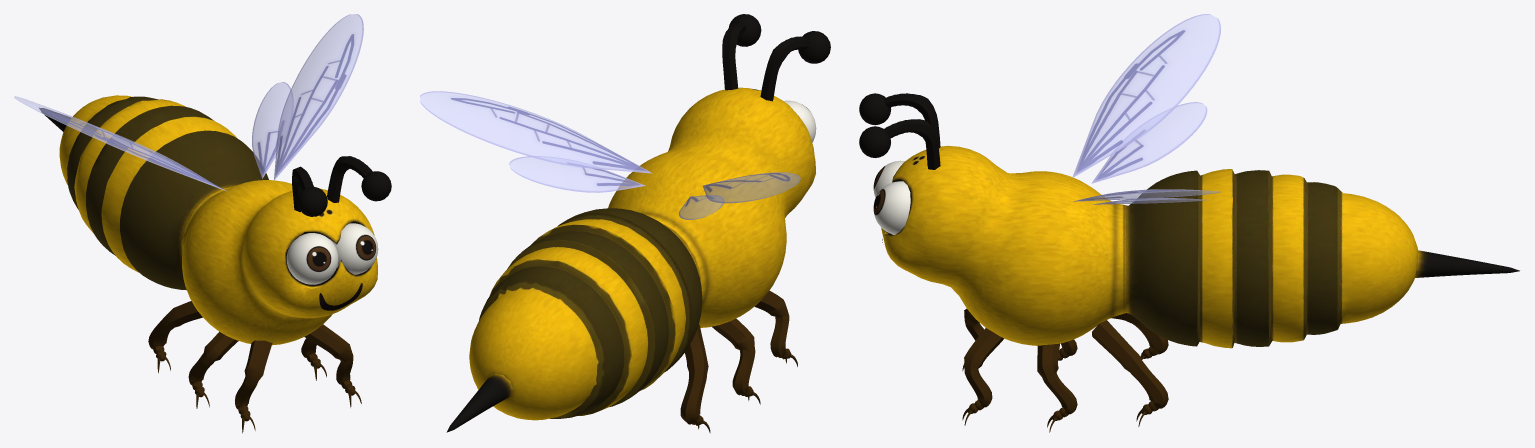
File: bee.glb
3 views of the same model, side by side, from view 1: azimuth 30°, elevation 25°; view 2: azimuth 150°, elevation 25°; view 3: azimuth 270°, elevation 25° (orthographic). The views are drawn at different scales.
Visible parts, largest first — view 1: Body_Mesh, Wing_L_Mesh, Wing_R_Mesh, Eye_R_Mesh, Eye_L_Mesh, Antenna_L_Mesh, Leg_Front_L_Mesh, Leg_Front_R_Mesh, Leg_Hind_R_Mesh, Antenna_R_Mesh, Leg_Middle_R_Mesh, Leg_Middle_L_Mesh; view 2: Body_Mesh, Wing_L_Mesh, Wing_R_Mesh, Antenna_R_Mesh, Leg_Hind_R_Mesh, Antenna_L_Mesh, Leg_Middle_R_Mesh, Leg_Front_R_Mesh, Eye_R_Mesh; view 3: Body_Mesh, Wing_R_Mesh, Leg_Hind_L_Mesh, Antenna_L_Mesh, Antenna_R_Mesh, Leg_Front_L_Mesh, Eye_L_Mesh, Leg_Middle_L_Mesh, Wing_L_Mesh, Leg_Hind_R_Mesh.
Boxes of the visible parts, x1,y1,x2,y2 form: Body_Mesh: (39, 95, 377, 345); Wing_L_Mesh: (252, 14, 363, 180); Wing_R_Mesh: (14, 96, 227, 191); Eye_R_Mesh: (286, 233, 338, 284); Eye_L_Mesh: (330, 223, 378, 274); Antenna_L_Mesh: (327, 156, 391, 202); Leg_Front_L_Mesh: (304, 324, 361, 407); Leg_Front_R_Mesh: (235, 340, 272, 433); Leg_Hind_R_Mesh: (148, 301, 202, 373); Antenna_R_Mesh: (292, 166, 327, 216); Leg_Middle_R_Mesh: (188, 331, 238, 408); Leg_Middle_L_Mesh: (301, 338, 326, 380); Body_Mesh: (446, 87, 815, 432); Wing_L_Mesh: (420, 91, 652, 192); Wing_R_Mesh: (678, 172, 800, 219); Antenna_R_Mesh: (760, 31, 830, 101); Leg_Hind_R_Mesh: (680, 324, 710, 433); Antenna_L_Mesh: (722, 14, 761, 90); Leg_Middle_R_Mesh: (712, 318, 760, 404); Leg_Front_R_Mesh: (754, 290, 797, 366); Eye_R_Mesh: (783, 100, 816, 142); Body_Mesh: (881, 145, 1519, 348); Wing_R_Mesh: (1072, 14, 1220, 183); Leg_Hind_L_Mesh: (1092, 320, 1168, 426); Antenna_L_Mesh: (859, 119, 940, 169); Antenna_R_Mesh: (859, 93, 940, 148); Leg_Front_L_Mesh: (962, 328, 1003, 425); Eye_L_Mesh: (873, 181, 910, 234); Leg_Middle_L_Mesh: (1037, 343, 1077, 432); Wing_L_Mesh: (1073, 189, 1220, 204); Leg_Hind_R_Mesh: (1111, 313, 1168, 359).
Bounding box in the file's own units: 0.3657 × 0.2873 × 0.578.
Materials: 7 (3 with a texture image).
